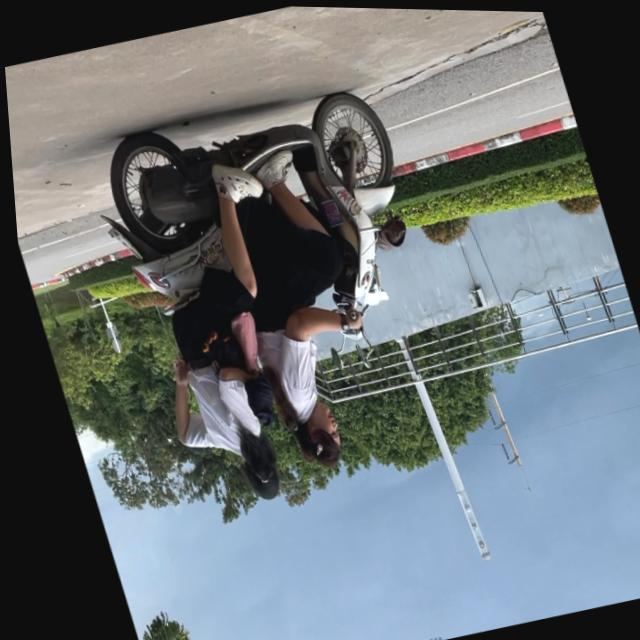seatbelt: (278, 394, 343, 474), (229, 445, 278, 503)
